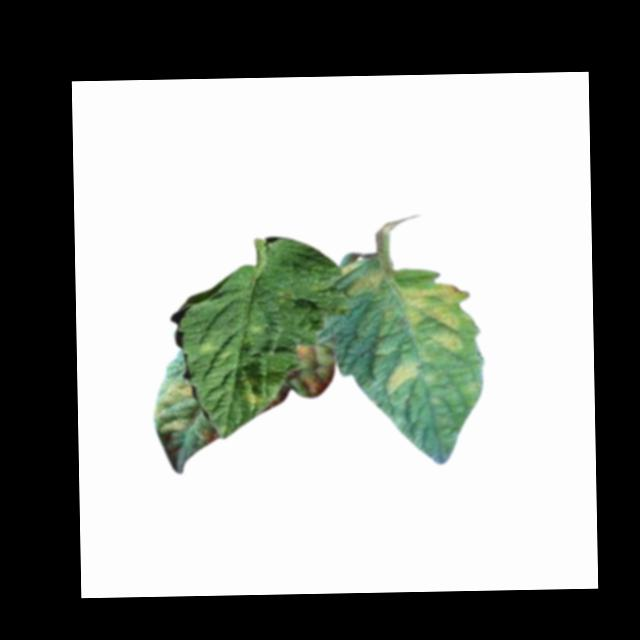Leaf_Mold: (391, 278, 471, 355), (286, 342, 336, 398), (152, 378, 199, 434), (381, 358, 420, 397), (339, 268, 385, 301), (235, 370, 269, 411)
